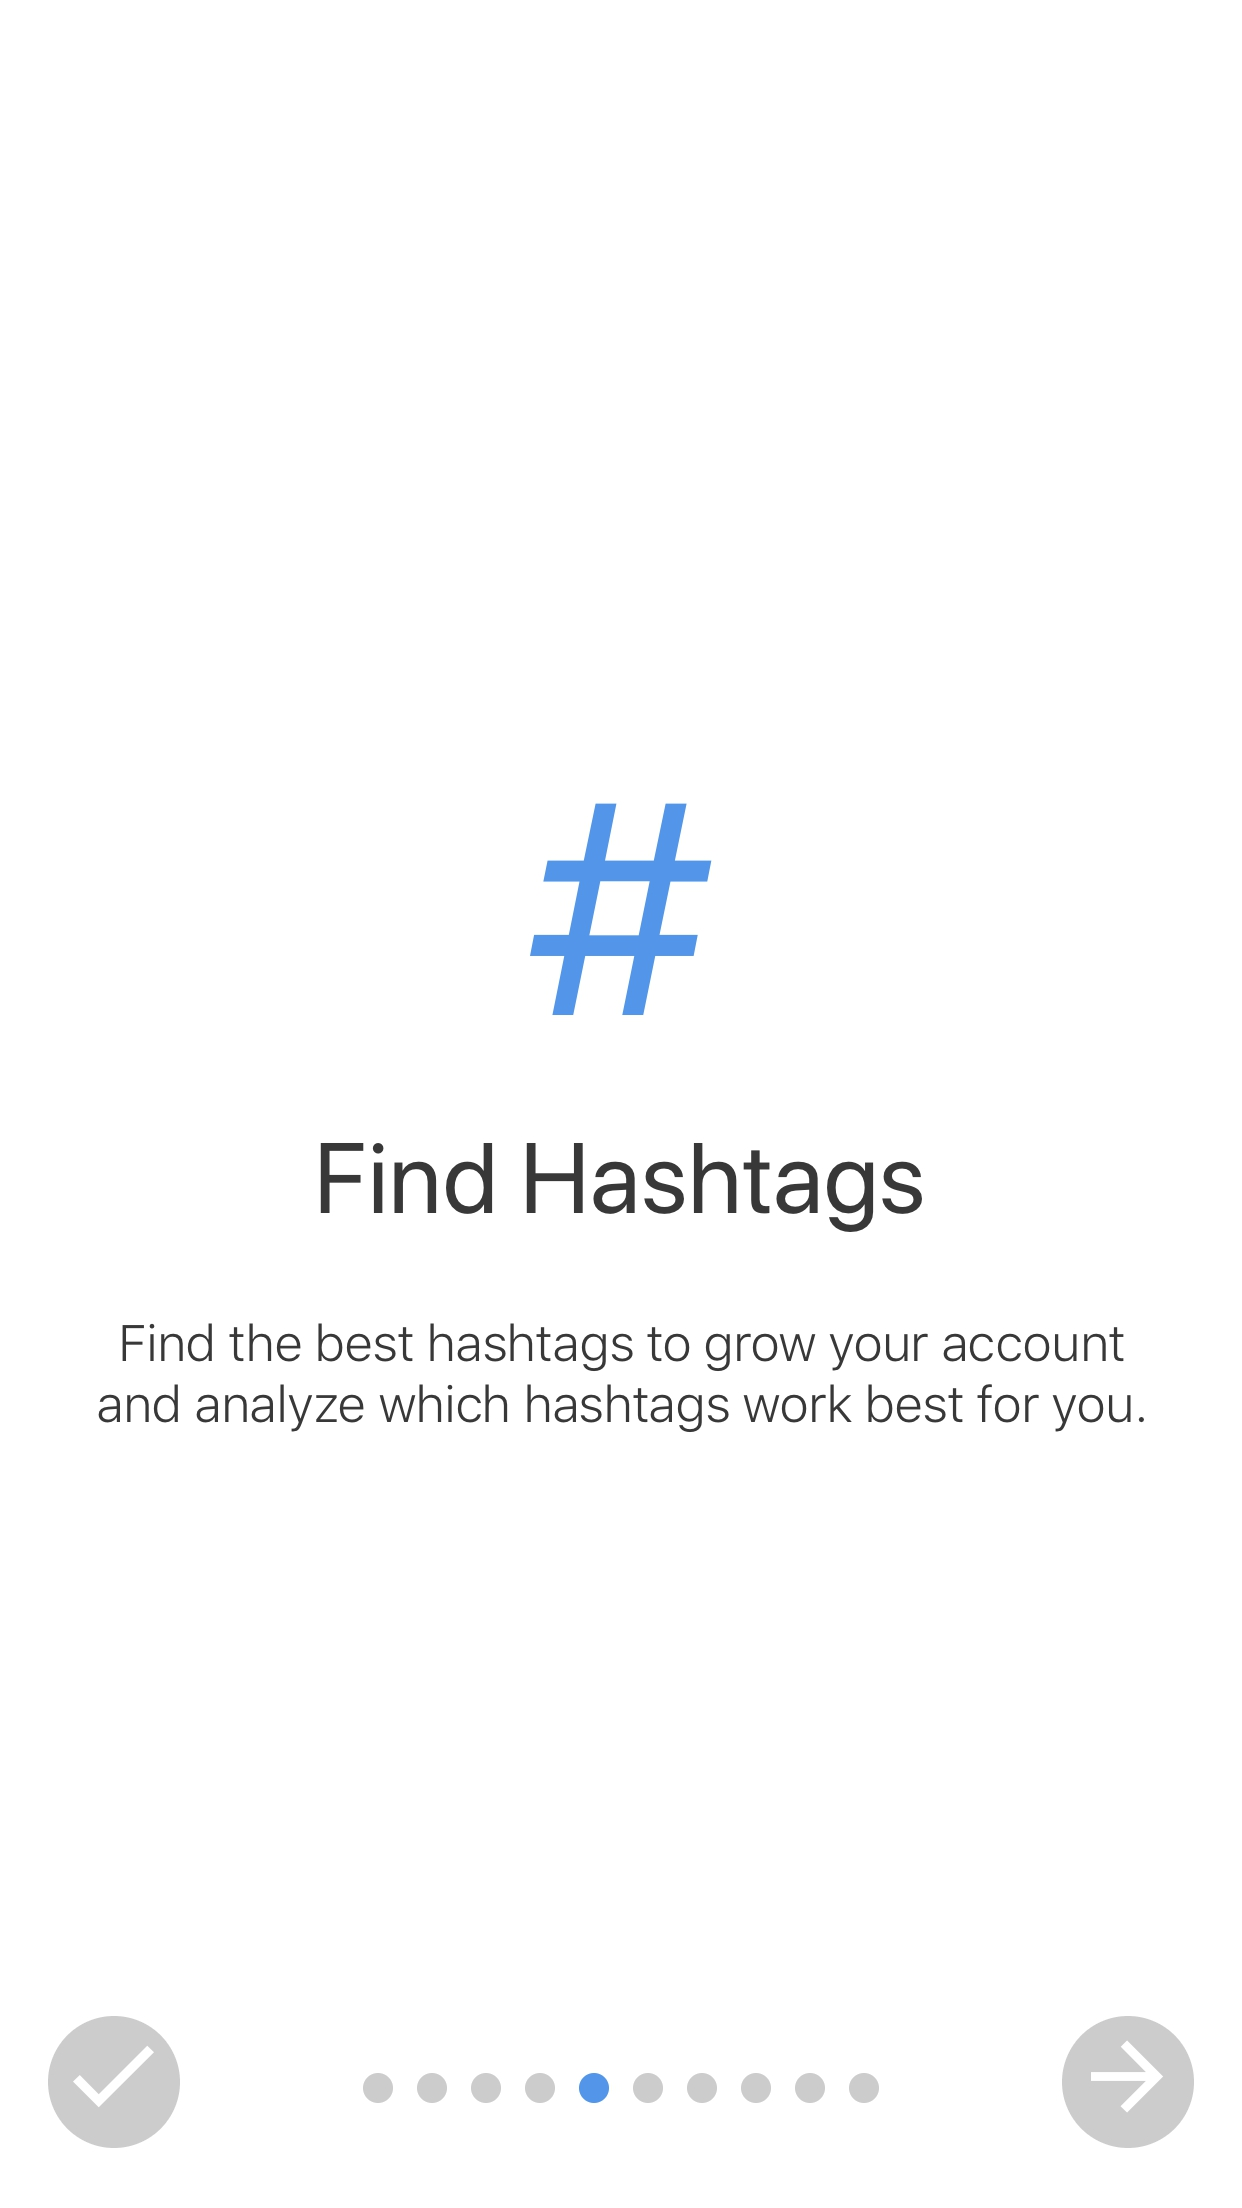Icon: (1062, 2015, 1193, 2147), (49, 2015, 180, 2147)
Image: (529, 804, 713, 1015)
PageIndicator: (362, 2072, 880, 2103)
Text: (99, 1322, 1143, 1432), (320, 1143, 921, 1231)
